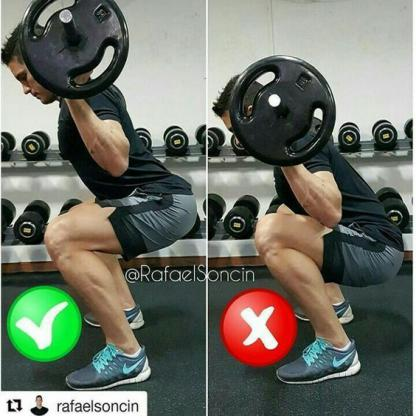Barbell: (223, 48, 344, 170)
